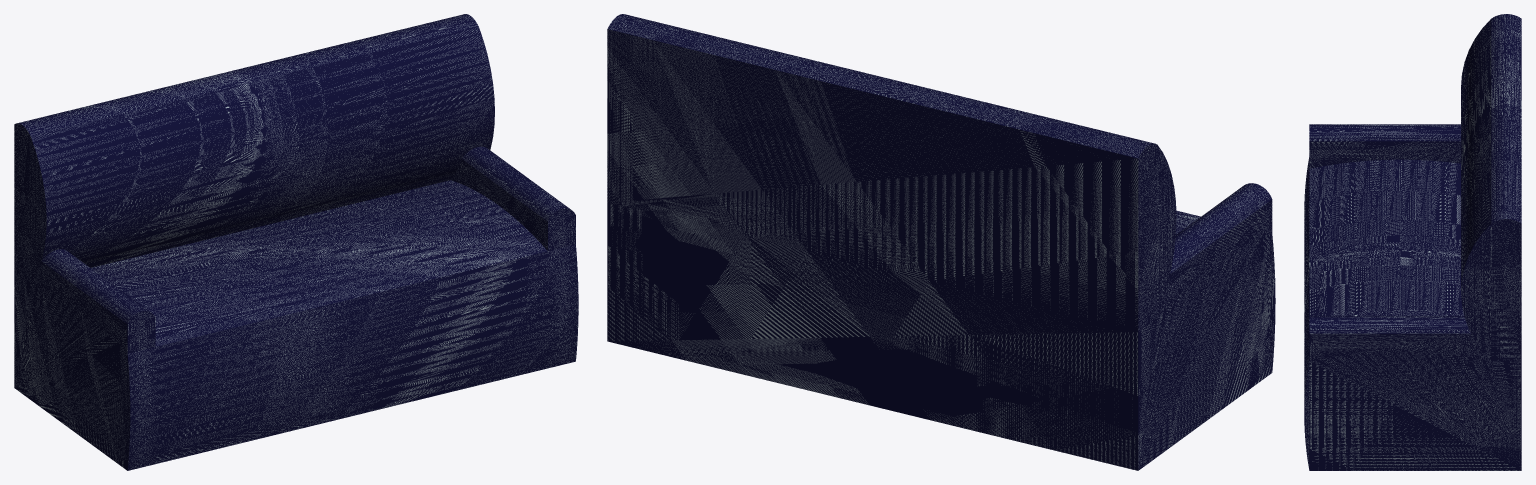
The picture shows the model from 3 angles, left to right: view 1: azimuth 30°, elevation 25°; view 2: azimuth 150°, elevation 25°; view 3: azimuth 270°, elevation 25°; orthographic projection. The views are drawn at different scales.
Parts seen in each view (by area): view 1: SketchUp; view 2: SketchUp; view 3: SketchUp.
Boxes of the visible parts, x1,y1,x2,y2 form: SketchUp: (14, 14, 578, 470); SketchUp: (607, 14, 1275, 470); SketchUp: (1304, 14, 1521, 470).
Size of the model in its own units: 96 by 43 by 55.
